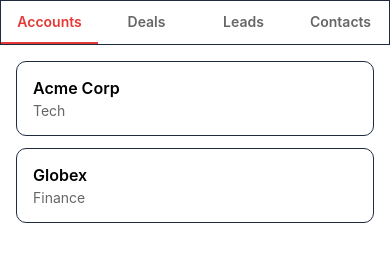
Test: Sales index screen › switches to deals list when Deals tab is pressed
Click the element with test id "sales-tab-deals".
click(146, 22)  # box left=128, top=13, right=165, bottom=30
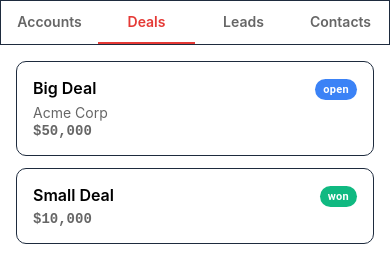
Result: the element with test id "sales-deal-item-0" is shown at left=16, top=61, right=374, bottom=156
Result: the element with test id "sales-deal-item-1" is shown at left=16, top=168, right=374, bottom=244
